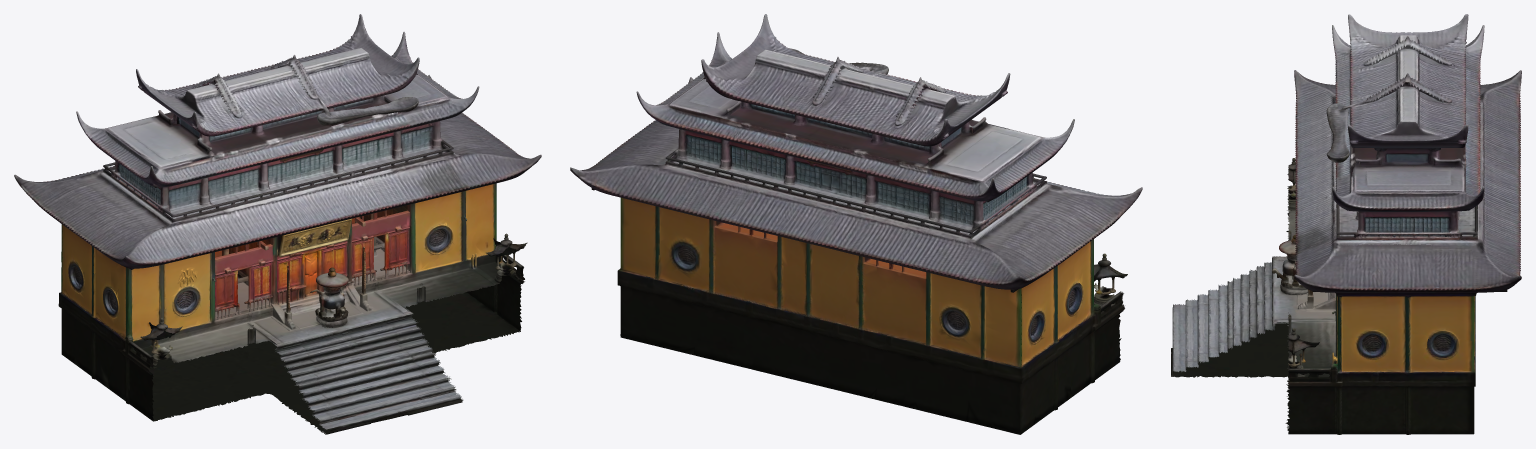
The model's file is lingyinsi.glb.
3 renders of one model, left to right at view 1: azimuth 30°, elevation 25°; view 2: azimuth 150°, elevation 25°; view 3: azimuth 270°, elevation 25°, orthographic. The views are drawn at different scales.
Visible parts, largest first — view 1: tripo_node_56412bac-83ae-4228-a677-8374af5daf8c; view 2: tripo_node_56412bac-83ae-4228-a677-8374af5daf8c; view 3: tripo_node_56412bac-83ae-4228-a677-8374af5daf8c.
Boxes of the visible parts, left/top/right/bottom form: tripo_node_56412bac-83ae-4228-a677-8374af5daf8c: left=14, top=14, right=541, bottom=434; tripo_node_56412bac-83ae-4228-a677-8374af5daf8c: left=570, top=14, right=1142, bottom=434; tripo_node_56412bac-83ae-4228-a677-8374af5daf8c: left=1171, top=14, right=1521, bottom=434.
Bounding box in the file's own units: 0.9799 × 0.6186 × 0.7064.
1 material, 1 textured.
